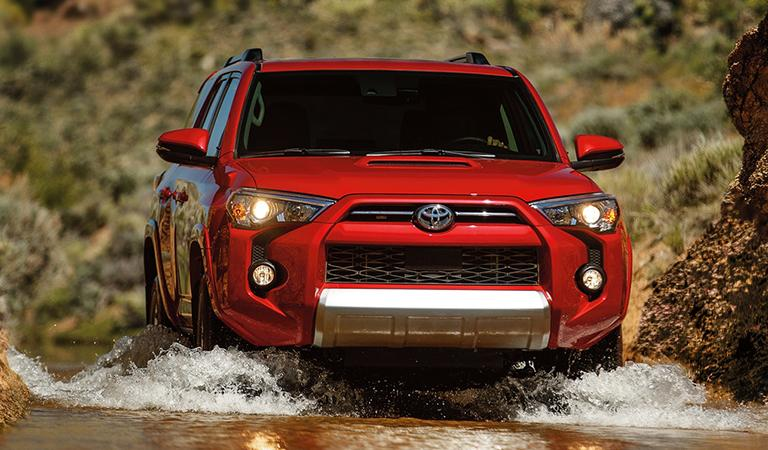car: (133, 56, 638, 403)
